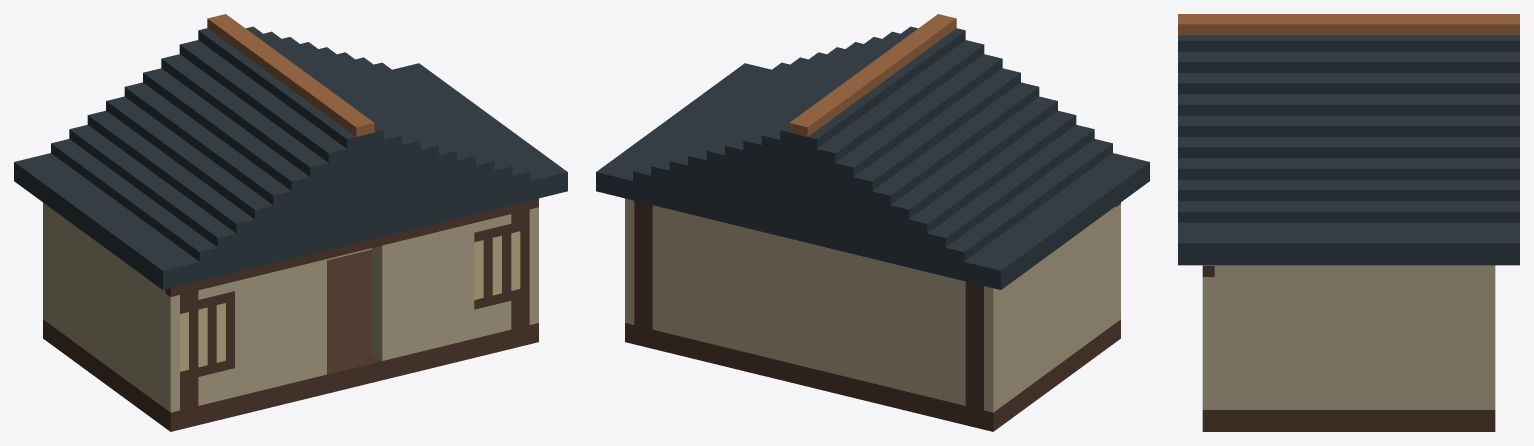
Rendered from workshop.glb.
3 renders of one model, left to right at view 1: azimuth 30°, elevation 25°; view 2: azimuth 150°, elevation 25°; view 3: azimuth 270°, elevation 25°, orthographic. The views are drawn at different scales.
Parts seen in each view (by area): view 1: Shell; view 2: Shell; view 3: Shell.
Boxes of the visible parts, bbox=[...] form: Shell: bbox=[14, 14, 567, 431]; Shell: bbox=[596, 14, 1149, 431]; Shell: bbox=[1178, 14, 1519, 431].
Size of the model in its own units: 5.5 by 3.5 by 3.5.
